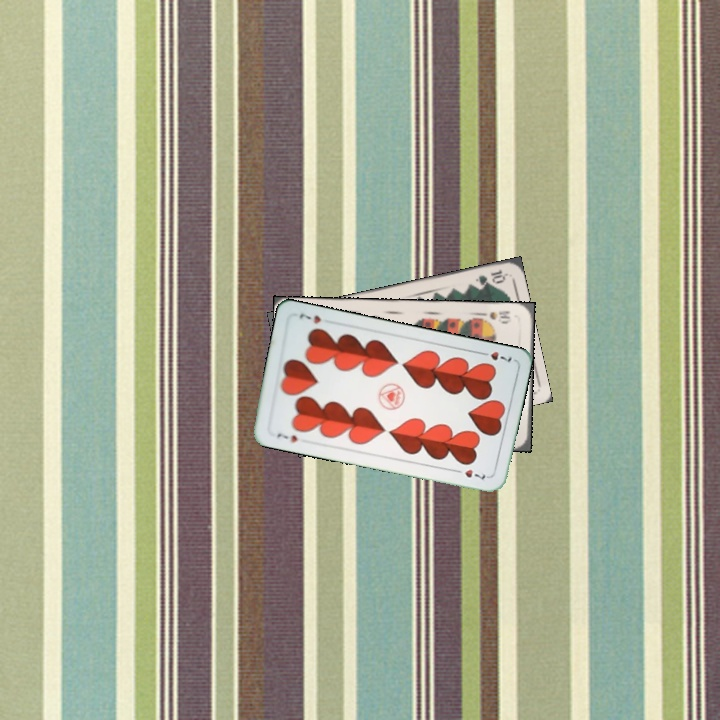G10: (472, 265, 508, 288)
H7: (476, 347, 514, 365), (273, 429, 301, 445)
S10: (477, 306, 512, 322)
